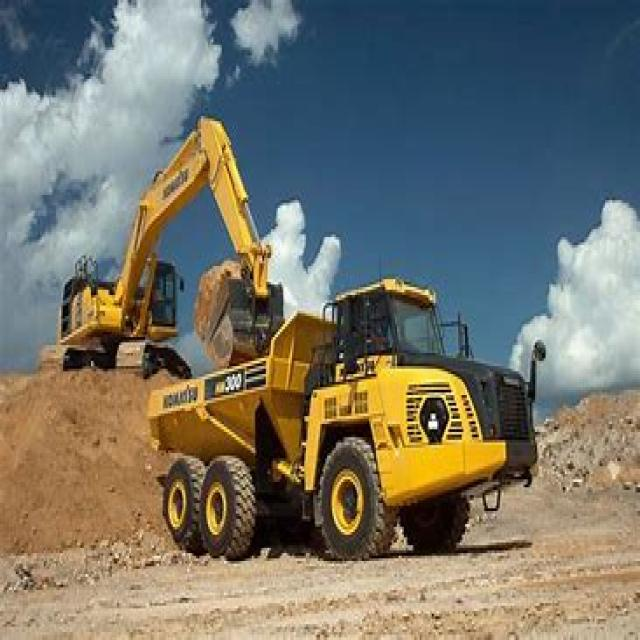dump_truck: (126, 276, 554, 569)
excavator: (52, 110, 280, 377)
